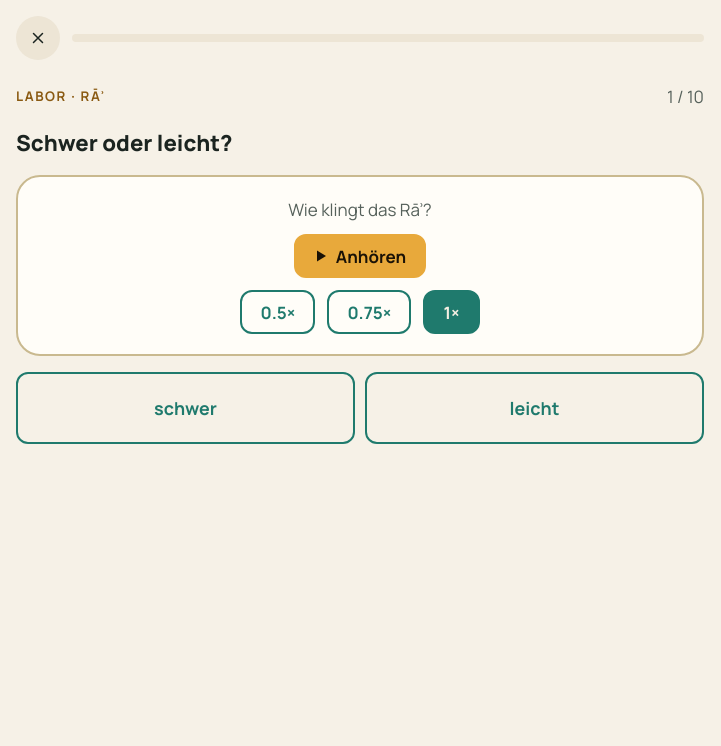
Test case: Welcher Buchstabe? (the listening quiz) › asks heavy or light for rāʾ
The image size is (721, 746).
Expected: the heading reads "Schwer oder leicht?", [16,126,233,158]
Click the button "schwer" at (186, 408), box [16,372,355,444]
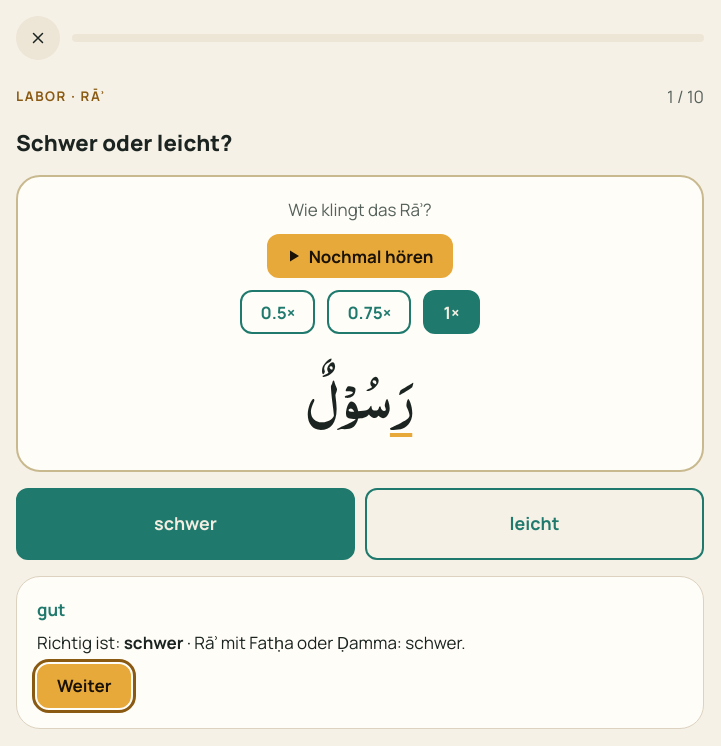
Expected: the message shows "gut", [37,598,66,621]
